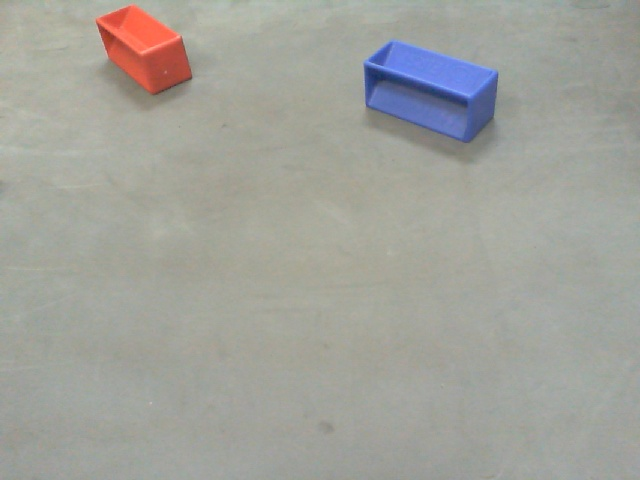BlueSample: (364, 38, 498, 140)
RedSample: (93, 5, 194, 97)
